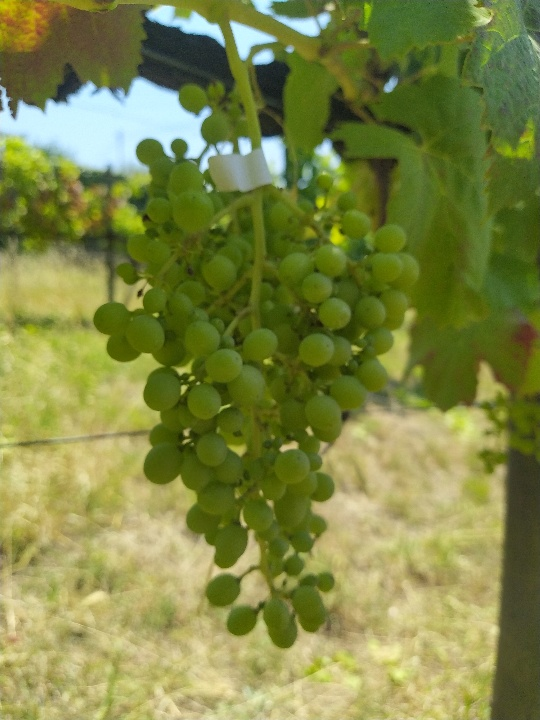grape: (92, 138, 423, 653)
